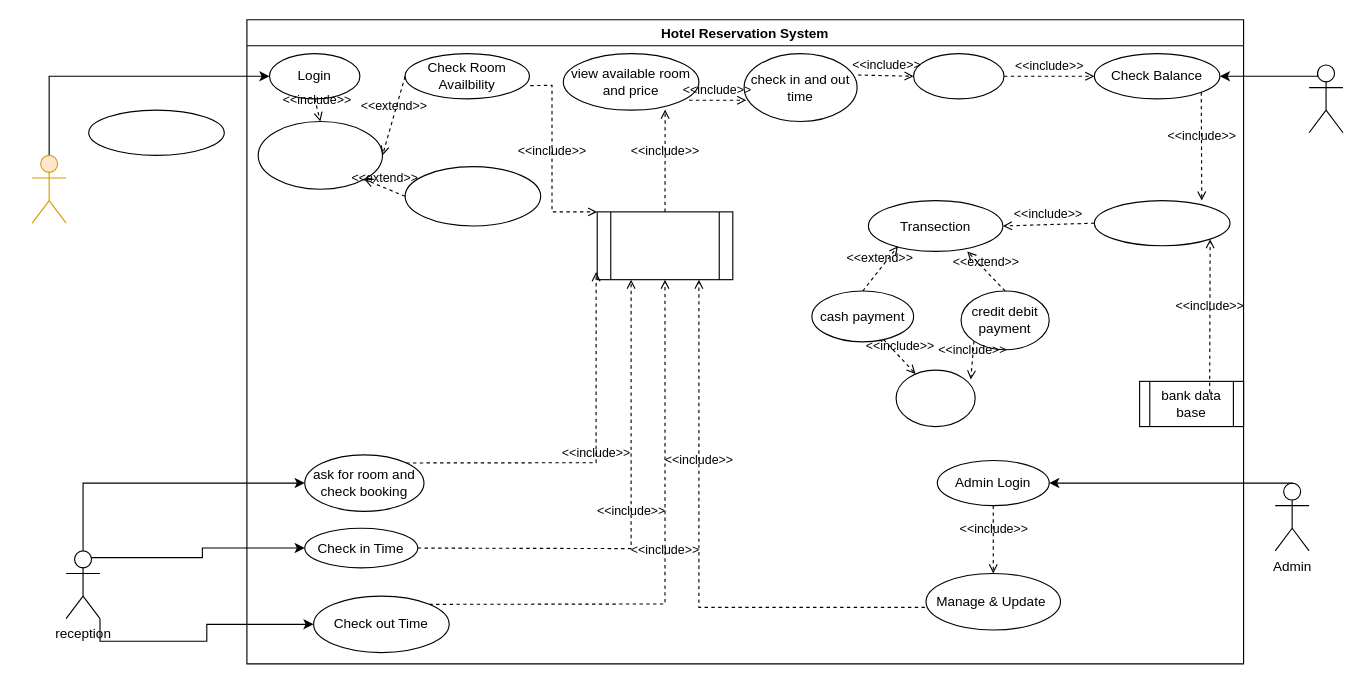
Image size: 1363x684. Some labels were removed from this diagram. The box of each missing label's shape, as (x1, y1, x2, y2) in pixels:
Bank: (1308, 64, 1343, 133)
Cancel room Booking: (404, 166, 541, 226)
Customer: (31, 154, 66, 223)
hotel data base: (596, 211, 733, 280)
Make room Booking: (257, 120, 383, 189)
pay bill: (895, 369, 975, 427)
Payment: (912, 53, 1004, 99)
verify: (1093, 199, 1230, 246)
View Profile & Gallery: (88, 109, 224, 155)
